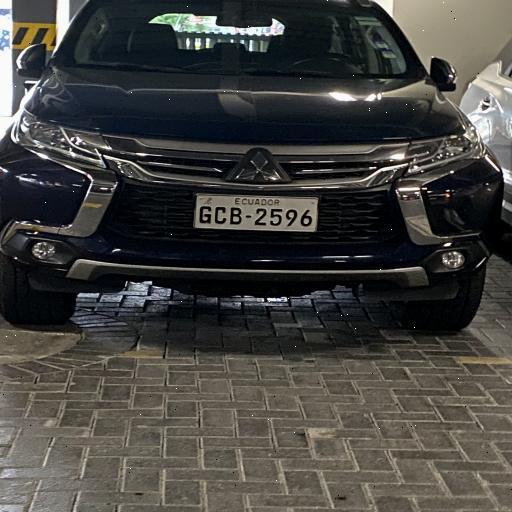license_plate: (213, 205, 228, 226), (284, 207, 298, 228), (299, 209, 314, 228), (198, 205, 212, 225), (254, 207, 268, 227), (269, 208, 283, 227), (230, 207, 243, 226)
